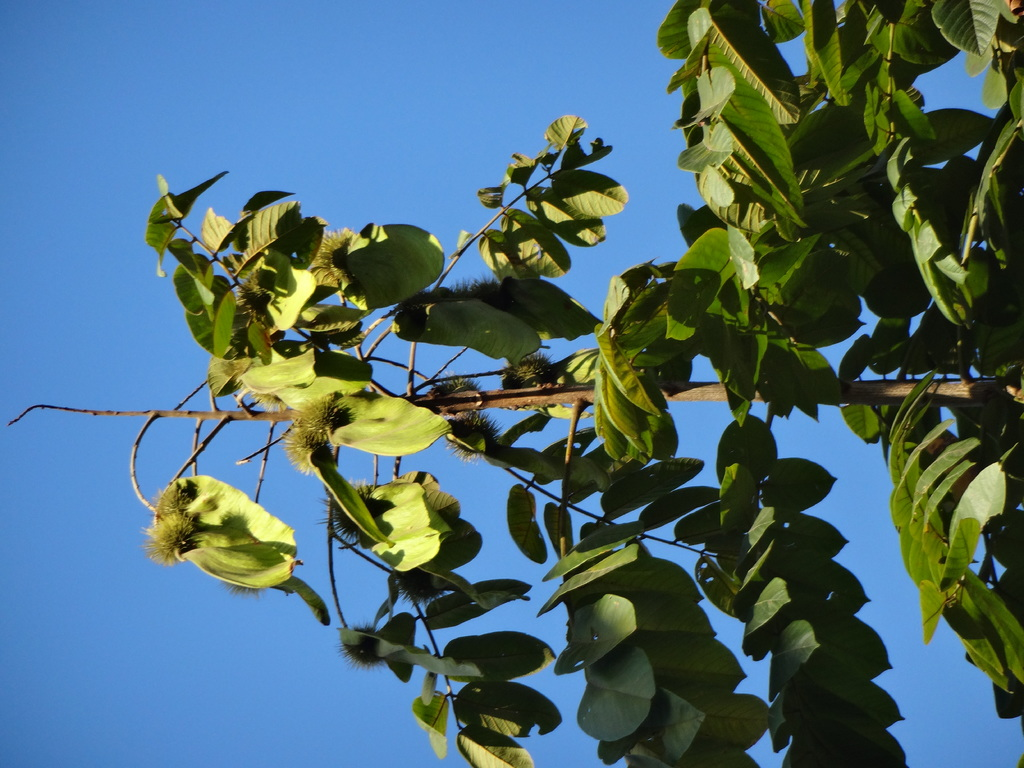Tree: (25, 82, 954, 755)
